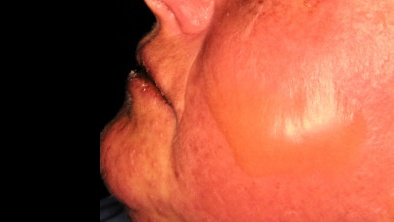SJS-TEN: (100, 0, 394, 222)
